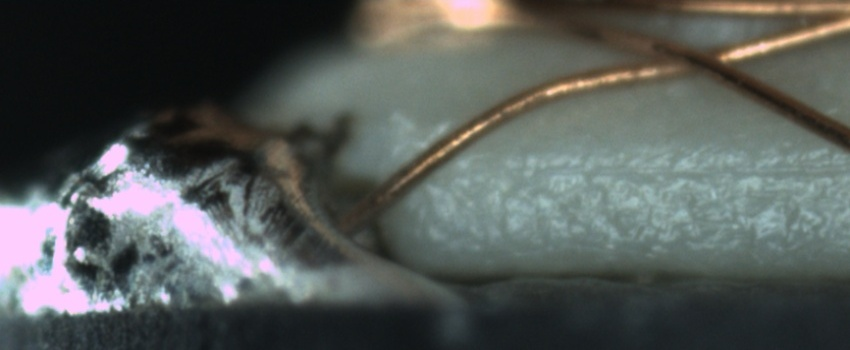CL: (628, 35, 769, 82)
DL: (506, 131, 850, 205)
